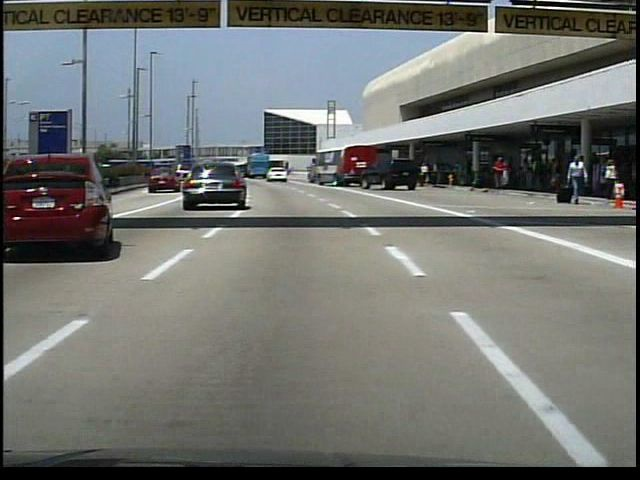person: (561, 151, 588, 204), (491, 154, 510, 190), (529, 153, 544, 190), (464, 157, 475, 187), (418, 163, 430, 189)
